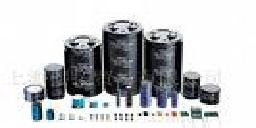Electrolytic Capacitor: (101, 13, 144, 96), (61, 32, 104, 99), (145, 25, 185, 89), (44, 61, 75, 100), (198, 84, 225, 108), (29, 97, 44, 126)
